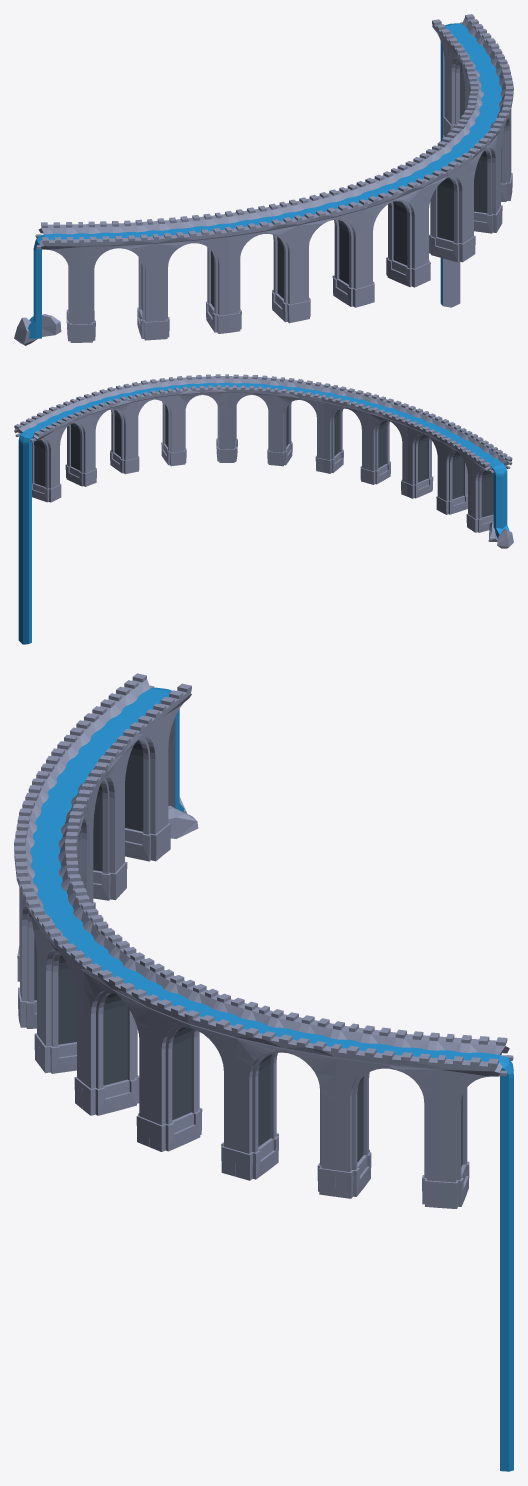
Rendered from aquaduct.glb.
The picture shows the model from 3 angles, top to bottom: view 1: azimuth 30°, elevation 25°; view 2: azimuth 150°, elevation 25°; view 3: azimuth 270°, elevation 25°; orthographic projection. The views are drawn at different scales.
Parts seen in each view (by area): view 1: StoneBridge.002, StoneBridge.003, Rock.002; view 2: StoneBridge.002, Rock.002, StoneBridge.003; view 3: StoneBridge.002, Rock.002, StoneBridge.003.
Part boxes in pixels (x1,y1,x2,y2): StoneBridge.002: (80,29,513,342); StoneBridge.003: (14,222,81,345); Rock.002: (432,14,485,307); StoneBridge.002: (33,374,496,529); Rock.002: (14,416,56,644); StoneBridge.003: (470,447,513,548); StoneBridge.002: (14,694,450,1207); Rock.002: (441,1034,513,1471); StoneBridge.003: (110,673,198,854).
Bounding box in the file's own units: 52.33 × 25.62 × 27.71.
Materials: 1 (1 with a texture image).
